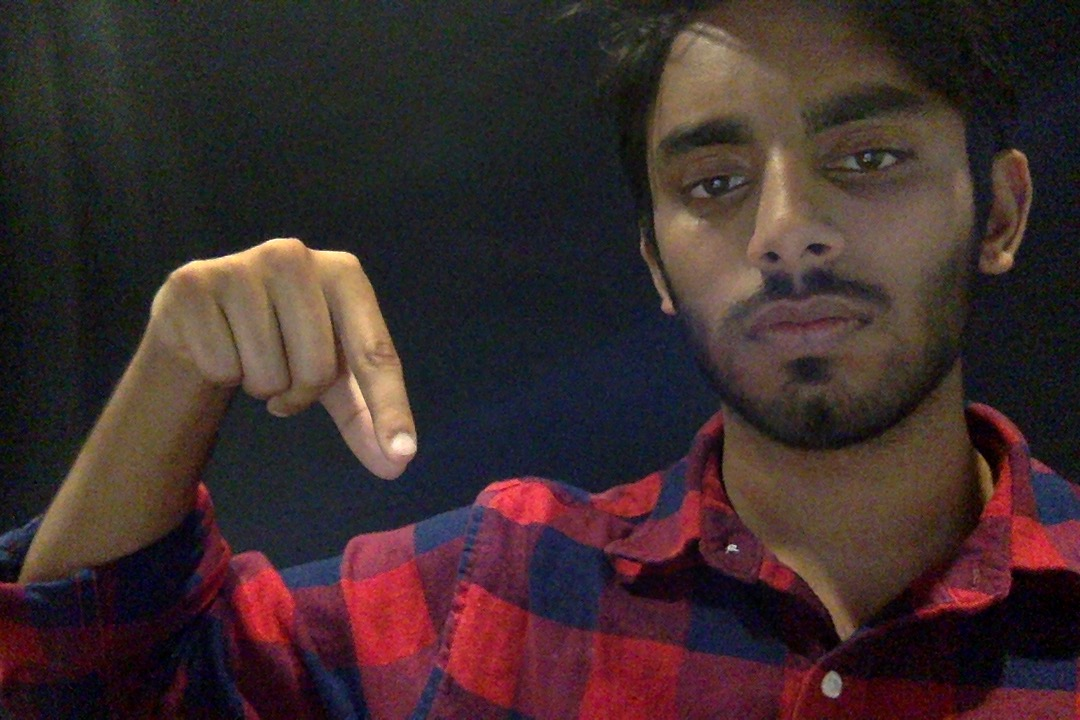q: (104, 209, 432, 527)
